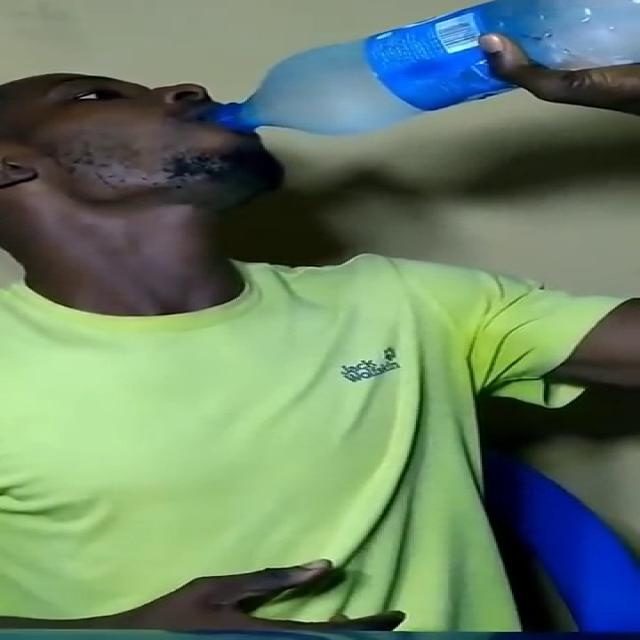Bottle: (219, 1, 638, 139)
Hand: (462, 0, 640, 116)
Mouth: (176, 101, 255, 137)
